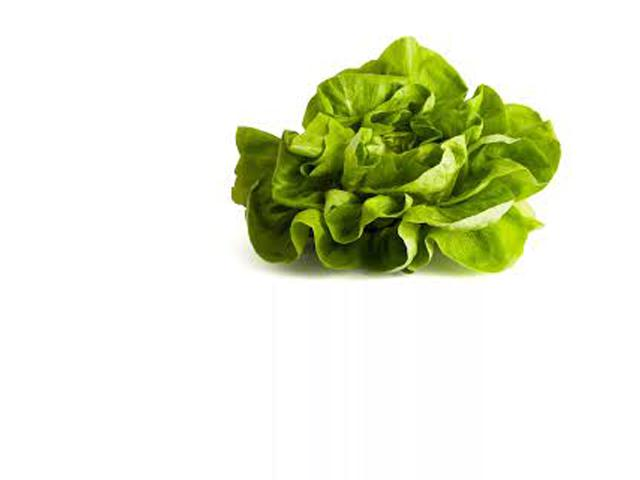lettuce: (225, 39, 570, 276)
